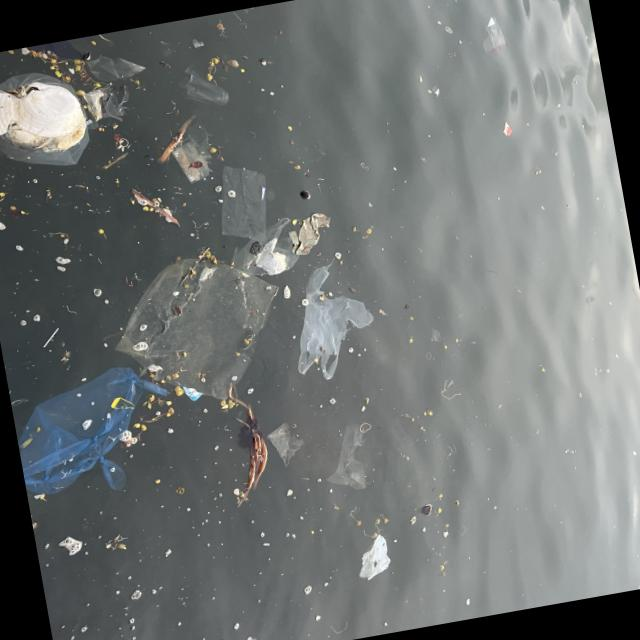foam: (1, 75, 85, 148)
plastic bag: (123, 246, 277, 404), (14, 357, 169, 499), (294, 264, 373, 377)
